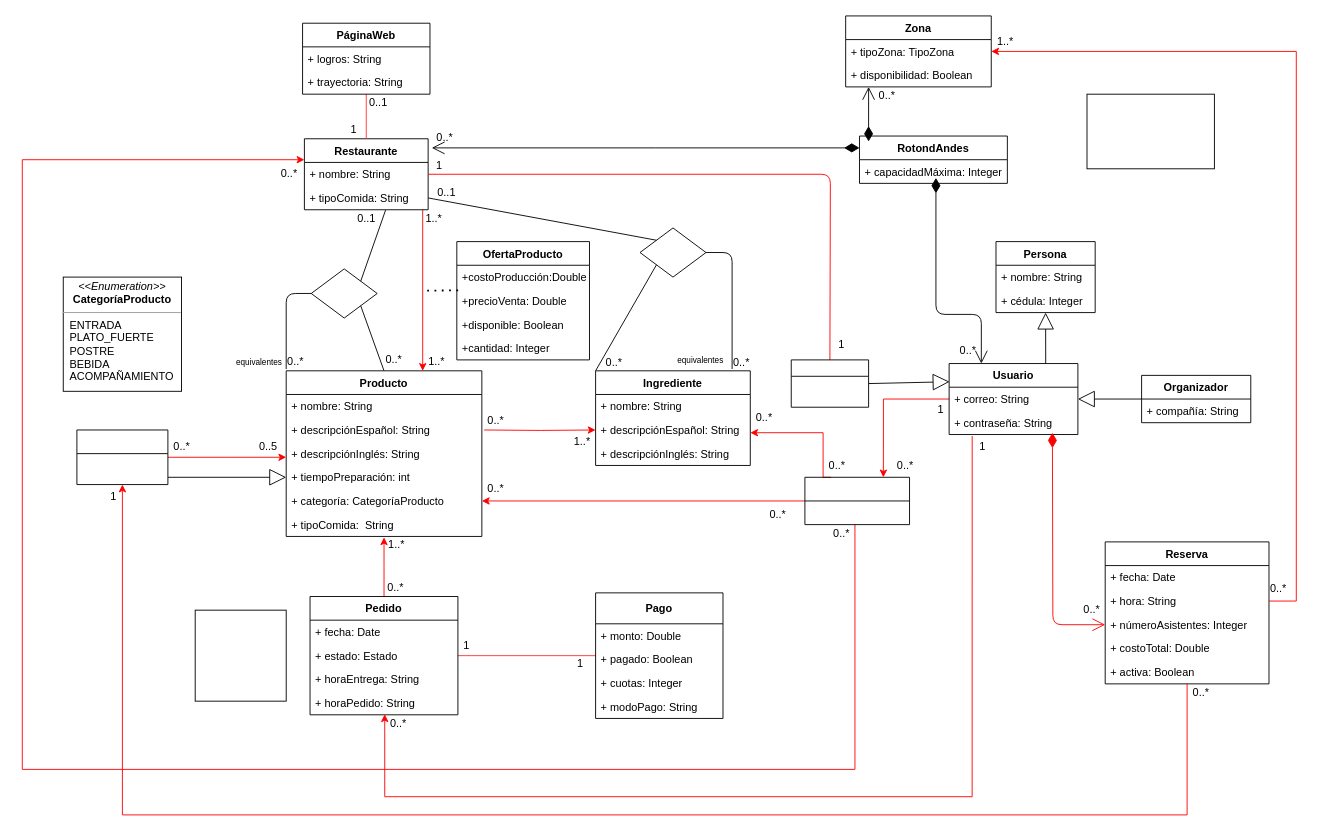
This 1320x838 diagram has some shape labels left out. Each missing label, with the centre of its shape:
<<Enumeration>> Estado COMPLETADO SERVIDO CANCELADO: the point at 240,655
<<Enumeration>> TipoZona MESA BARRA: the point at 1150,131
Menú: the point at 122,457
Preferencia: the point at 857,500
Representante: the point at 829,383
